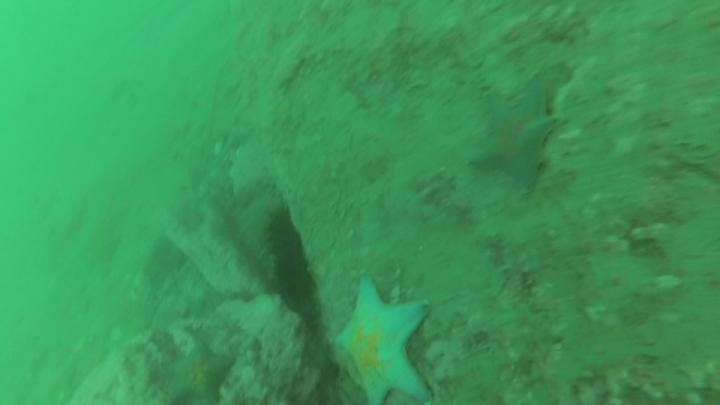echinus: (268, 251, 320, 306), (262, 206, 306, 257)
starfish: (329, 277, 435, 405), (467, 79, 560, 193), (159, 338, 237, 405)
